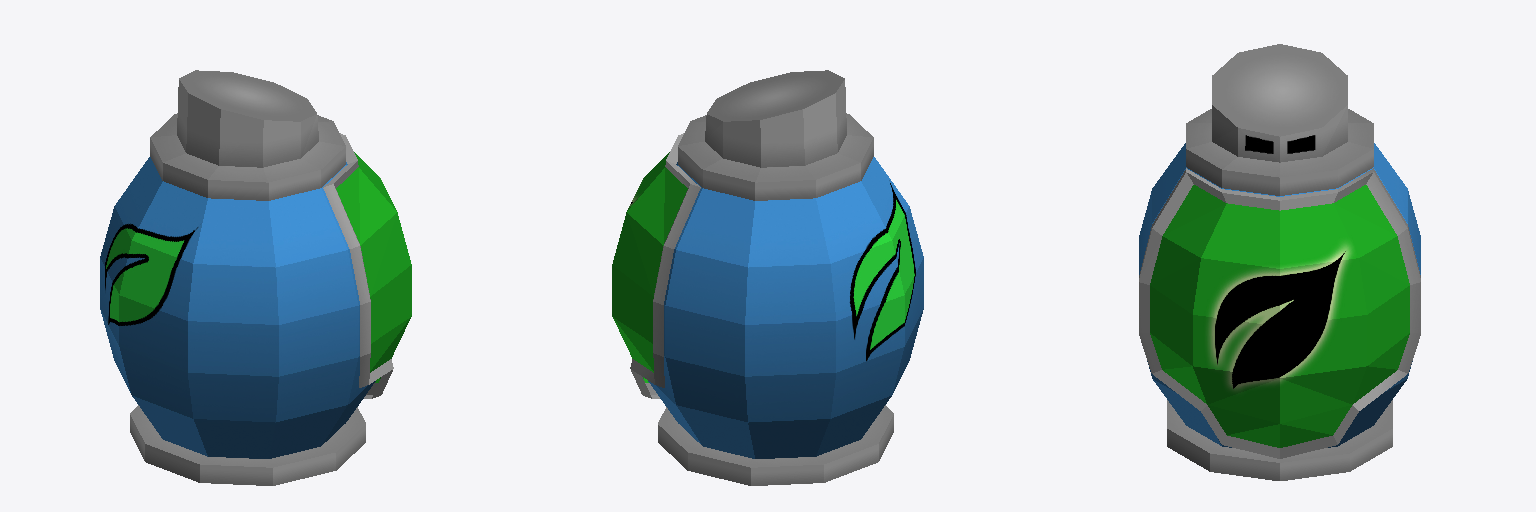
3 views of the same model, side by side, from view 1: azimuth 30°, elevation 25°; view 2: azimuth 150°, elevation 25°; view 3: azimuth 270°, elevation 25° (orthographic).
Visible parts, largest first — view 1: Cylinder001, Object001; view 2: Cylinder001, Object001; view 3: Object001, Cylinder001.
Boxes of the visible parts, box(x1,y1,x2,y2) form: Cylinder001: box(100, 70, 375, 485); Object001: box(323, 133, 411, 398); Cylinder001: box(648, 70, 923, 485); Object001: box(612, 133, 700, 398); Object001: box(1139, 168, 1420, 458); Cylinder001: box(1139, 44, 1420, 480).
Bounding box in the file's own units: 0.7752 × 0.9711 × 0.6946.
Materials: 2 (2 with a texture image).